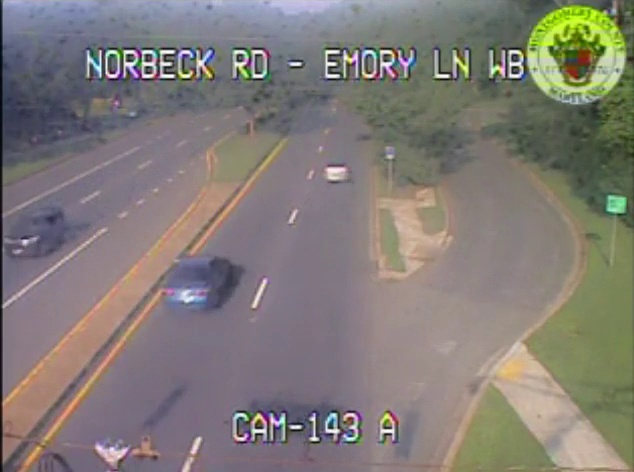car: (161, 255, 230, 307), (323, 162, 349, 182)
